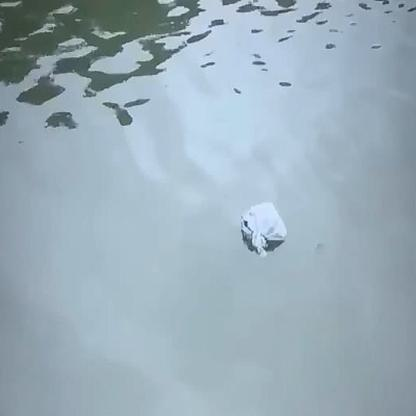plastic bag: (238, 203, 289, 254)
